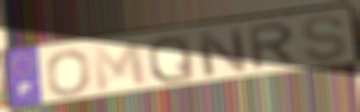M: (90, 39, 149, 94)
N: (194, 26, 251, 79)
O: (45, 48, 93, 97)
Q: (145, 34, 198, 85)
R: (247, 20, 301, 73)
S: (300, 14, 350, 64)
